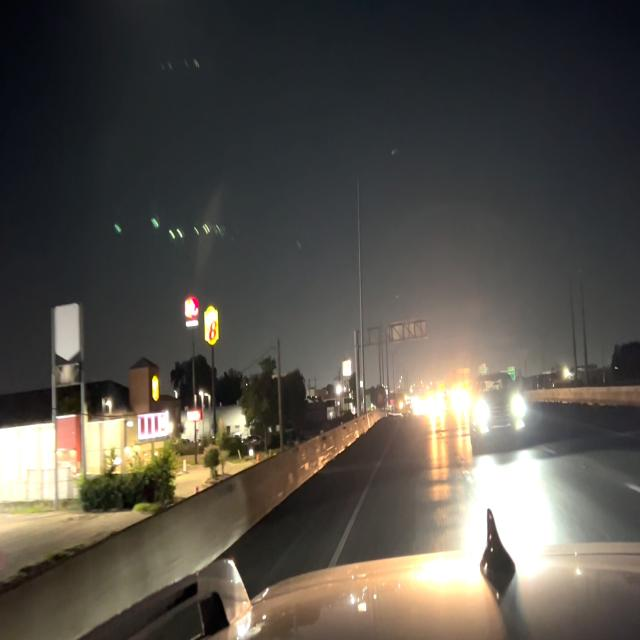back-of-sign: (388, 317, 430, 348)
